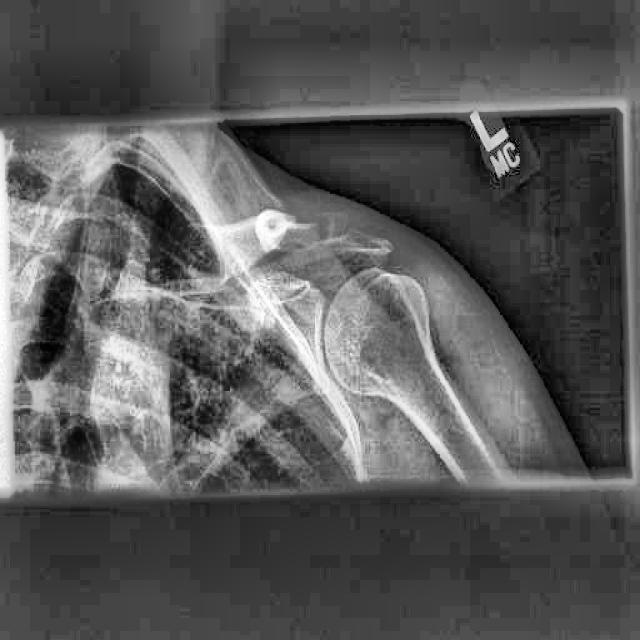shoulder fracture: (298, 204, 343, 264)
